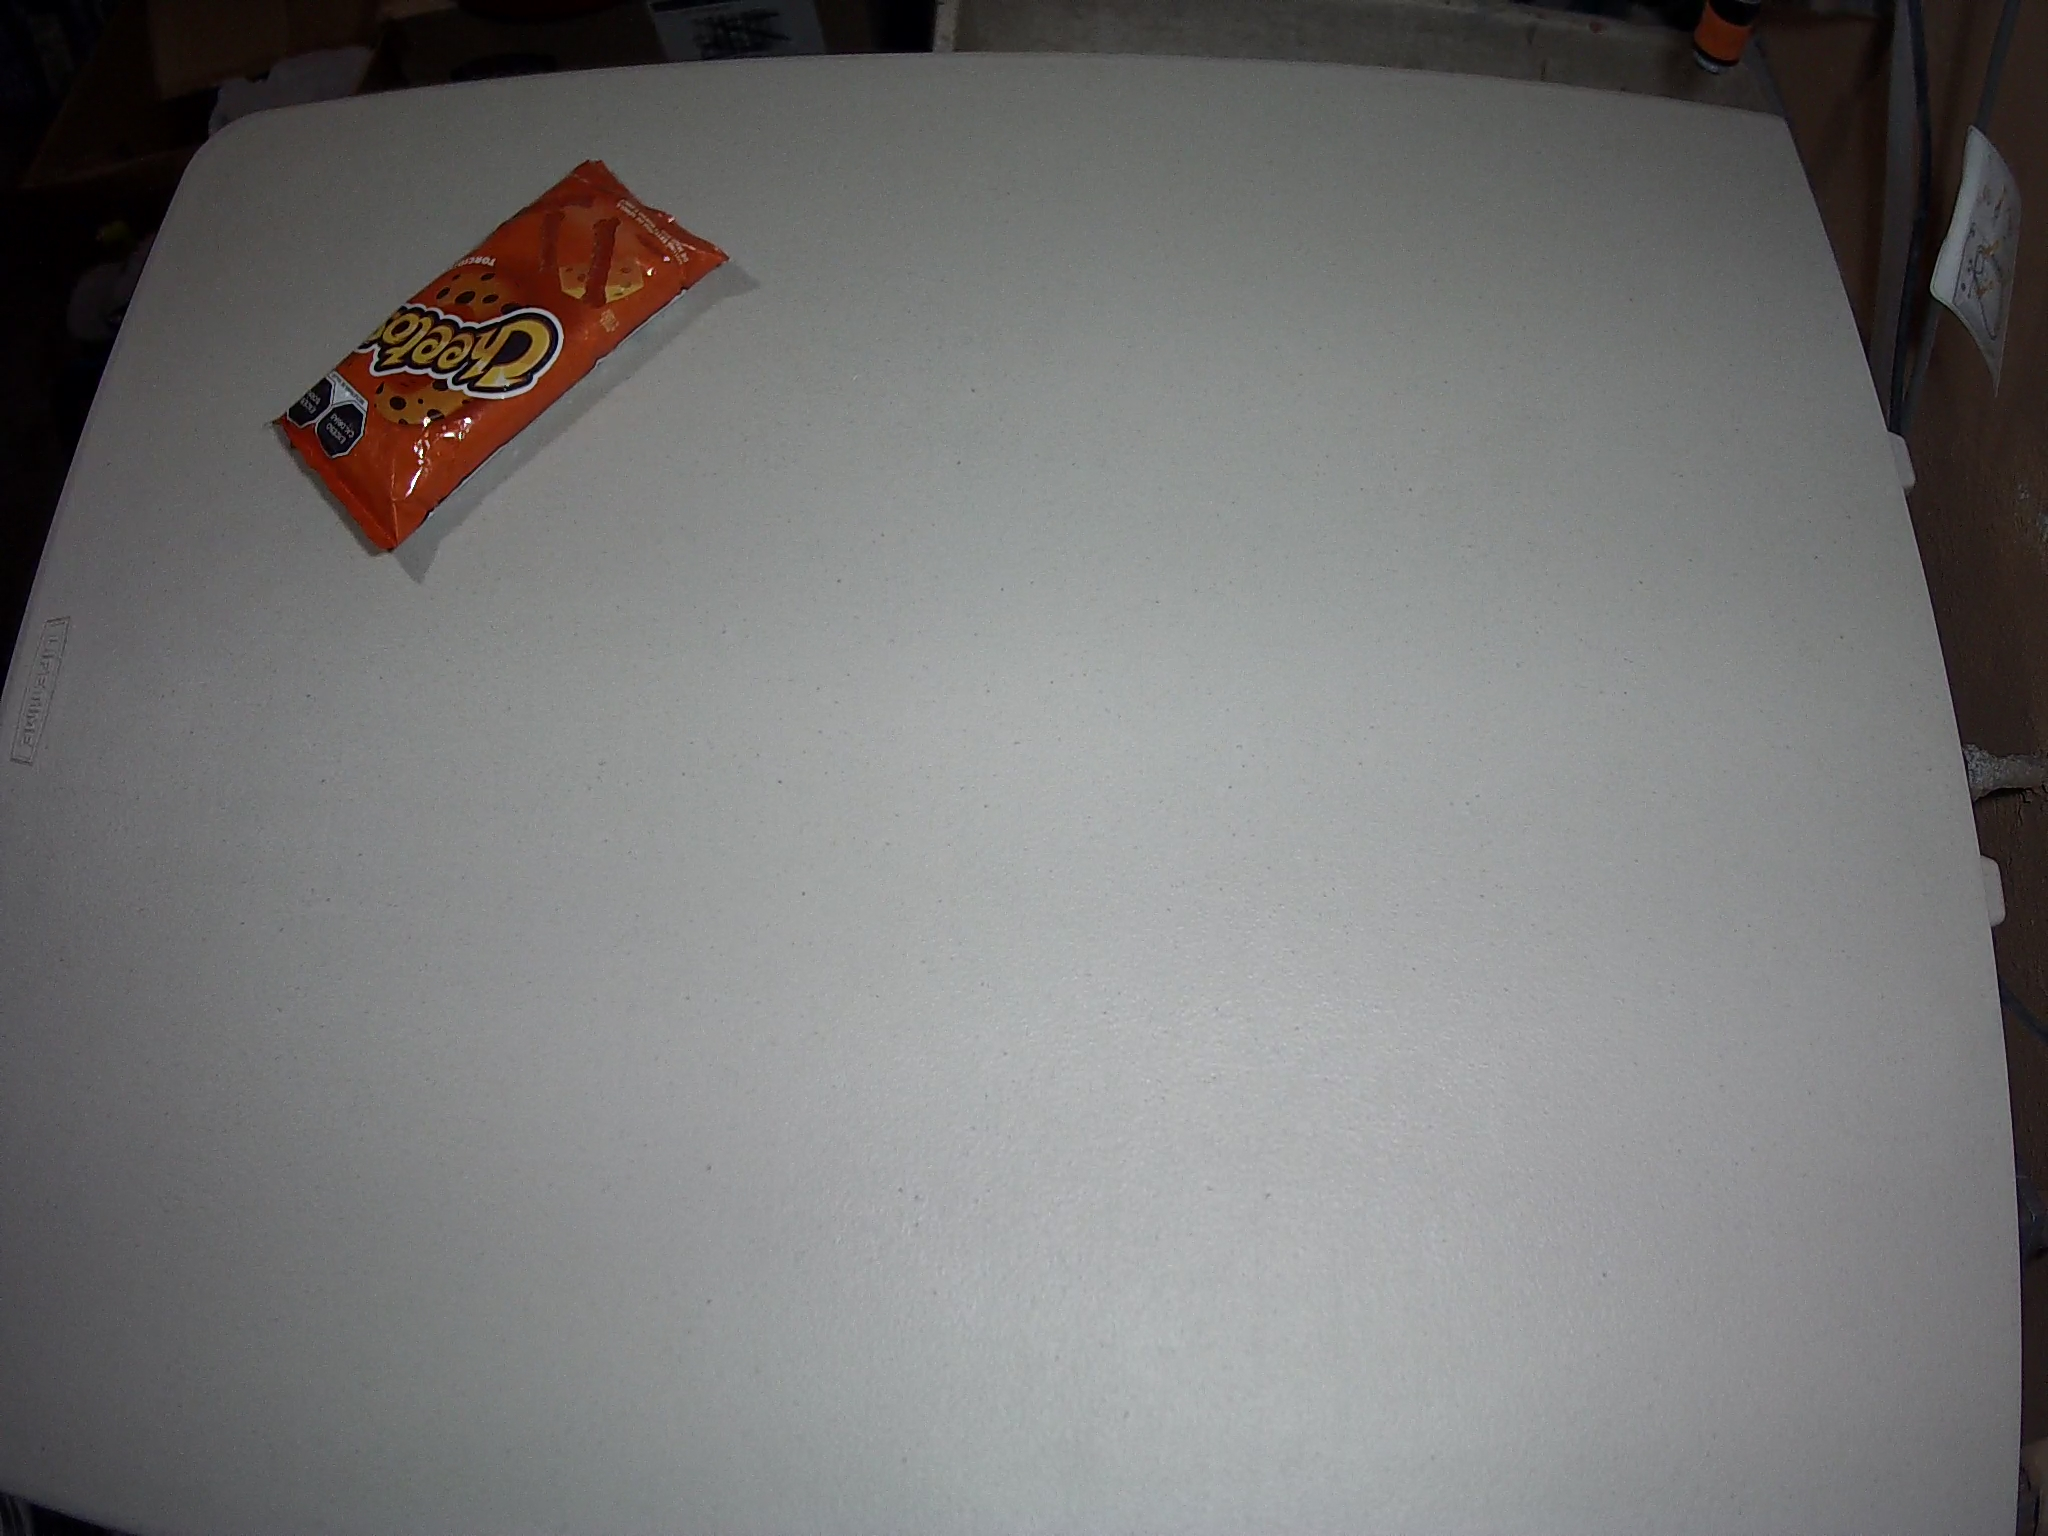CheetosTorciditos_55_F: (263, 161, 732, 558)
